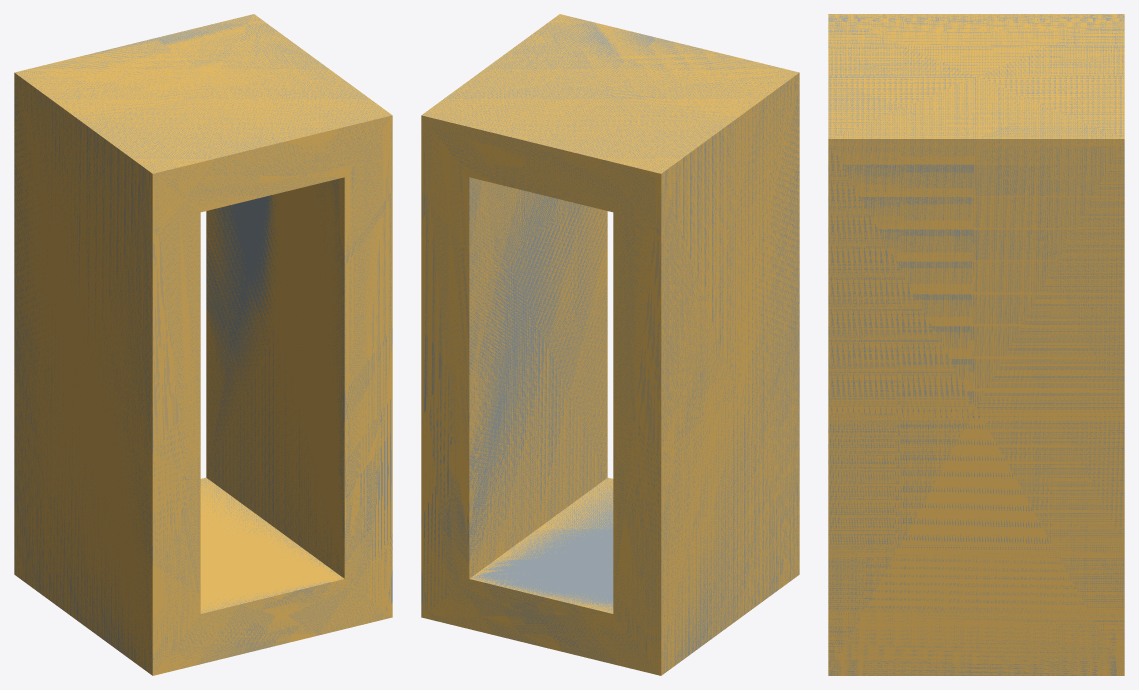
The model's file is door2.fbx.
3 renders of one model, left to right at view 1: azimuth 30°, elevation 25°; view 2: azimuth 150°, elevation 25°; view 3: azimuth 270°, elevation 25°, orthographic. The views are drawn at different scales.
Visible parts, largest first — view 1: Group1; view 2: Group1; view 3: Group1.
Boxes of the visible parts, x1,y1,x2,y2 form: Group1: (14,14,392,675); Group1: (421,14,799,675); Group1: (828,14,1124,675).
Size of the model in its own units: 100 by 200 by 100.
